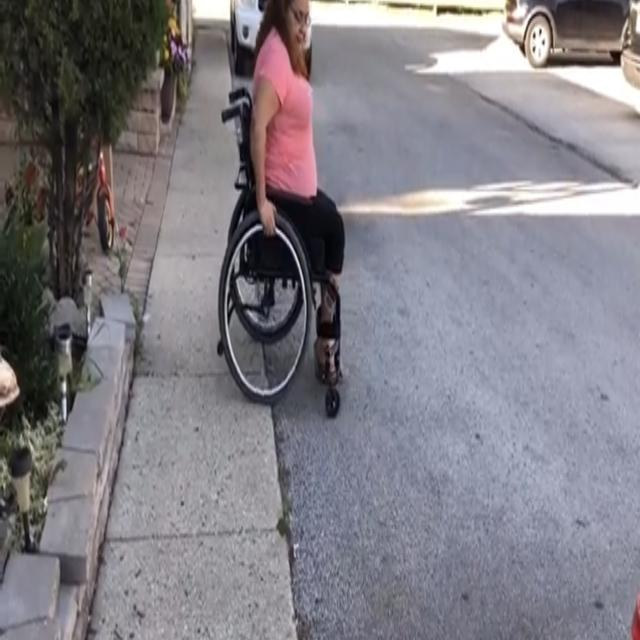wheelchairs: (216, 86, 343, 417)
